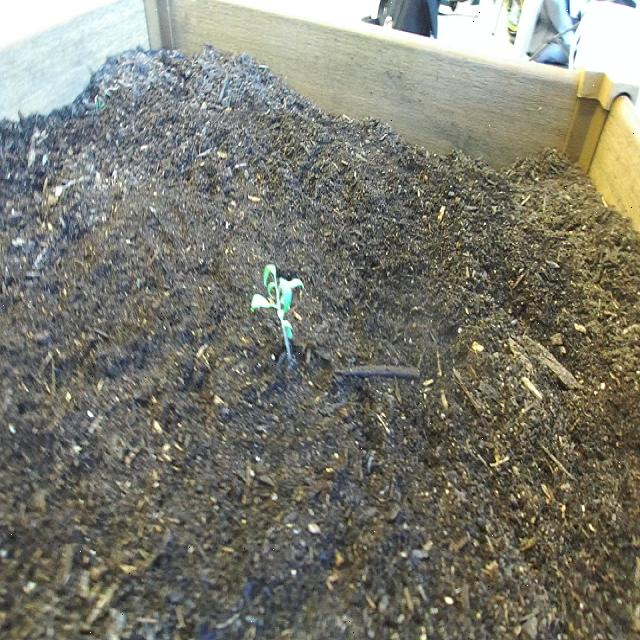Healthy: (245, 250, 308, 375)
